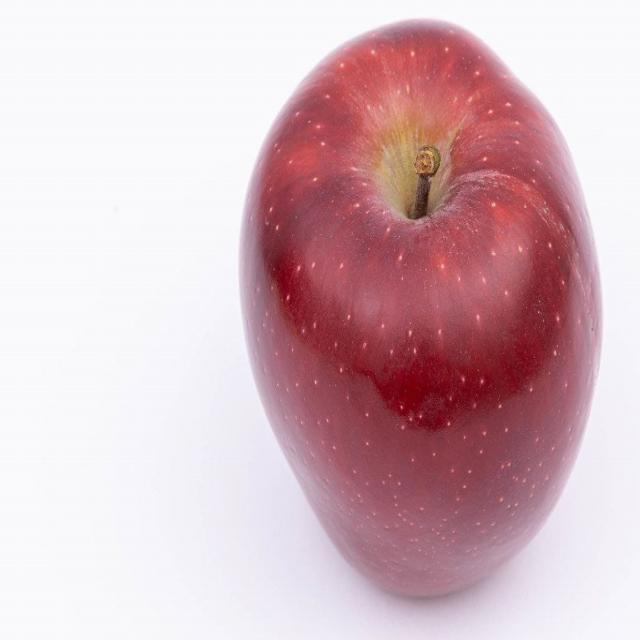Fresh Apple: (250, 33, 593, 610)
